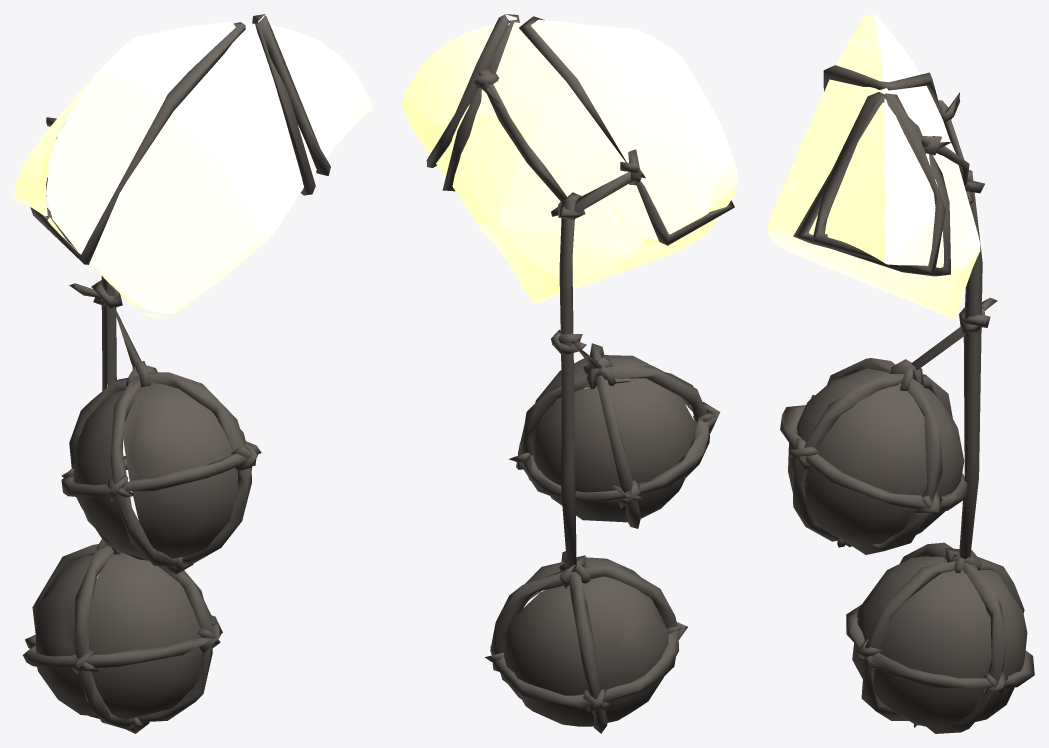
File: lb_lantern_tall.glb
3 views of the same model, side by side, from view 1: azimuth 30°, elevation 25°; view 2: azimuth 150°, elevation 25°; view 3: azimuth 270°, elevation 25° (orthographic). The views are drawn at different scales.
Visible parts, largest first — view 1: geometry_1, geometry_0; view 2: geometry_1, geometry_0; view 3: geometry_1, geometry_0.
Boxes of the visible parts, x1,y1,x2,y2 form: geometry_1: [22, 14, 330, 733]; geometry_0: [14, 21, 372, 317]; geometry_1: [426, 14, 734, 733]; geometry_0: [401, 19, 737, 303]; geometry_1: [780, 65, 1034, 733]; geometry_0: [767, 14, 980, 319].
Size of the model in its own units: 1.7 by 3.41 by 1.18.
